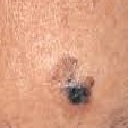Melanoma: (50, 52, 106, 114)
